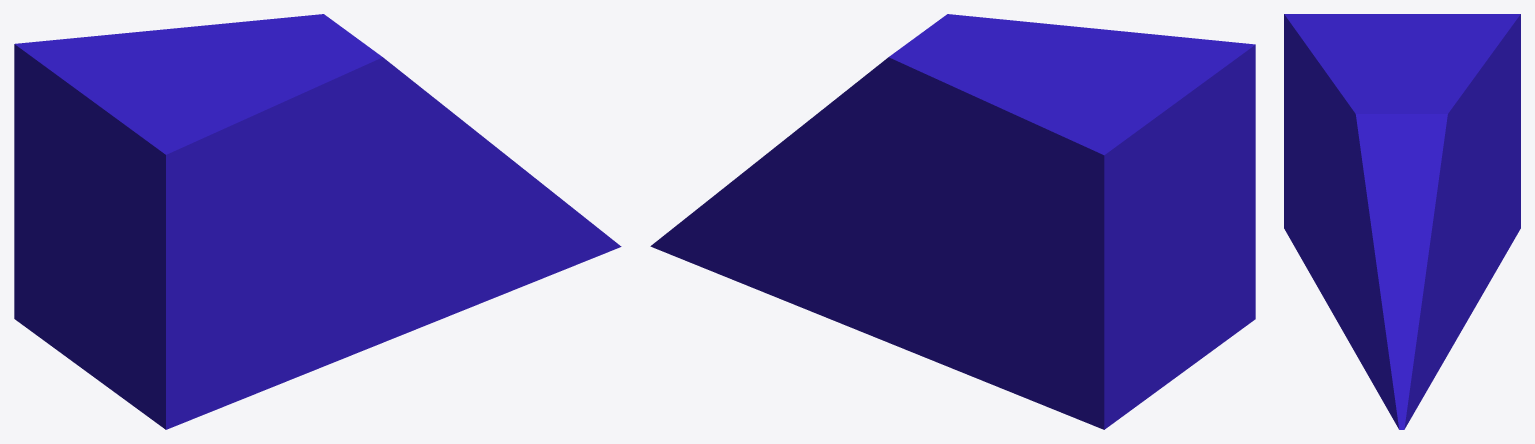
Rendered from Player_Mat.fbx.
3 views of the same model, side by side, from view 1: azimuth 30°, elevation 25°; view 2: azimuth 150°, elevation 25°; view 3: azimuth 270°, elevation 25° (orthographic). The views are drawn at different scales.
Parts seen in each view (by area): view 1: Cube; view 2: Cube; view 3: Cube.
Part boxes in pixels (x1,y1,x2,y2): Cube: (14, 14, 621, 429); Cube: (650, 14, 1255, 429); Cube: (1284, 14, 1520, 429).
Bounding box in the file's own units: 403 × 200 × 200.
